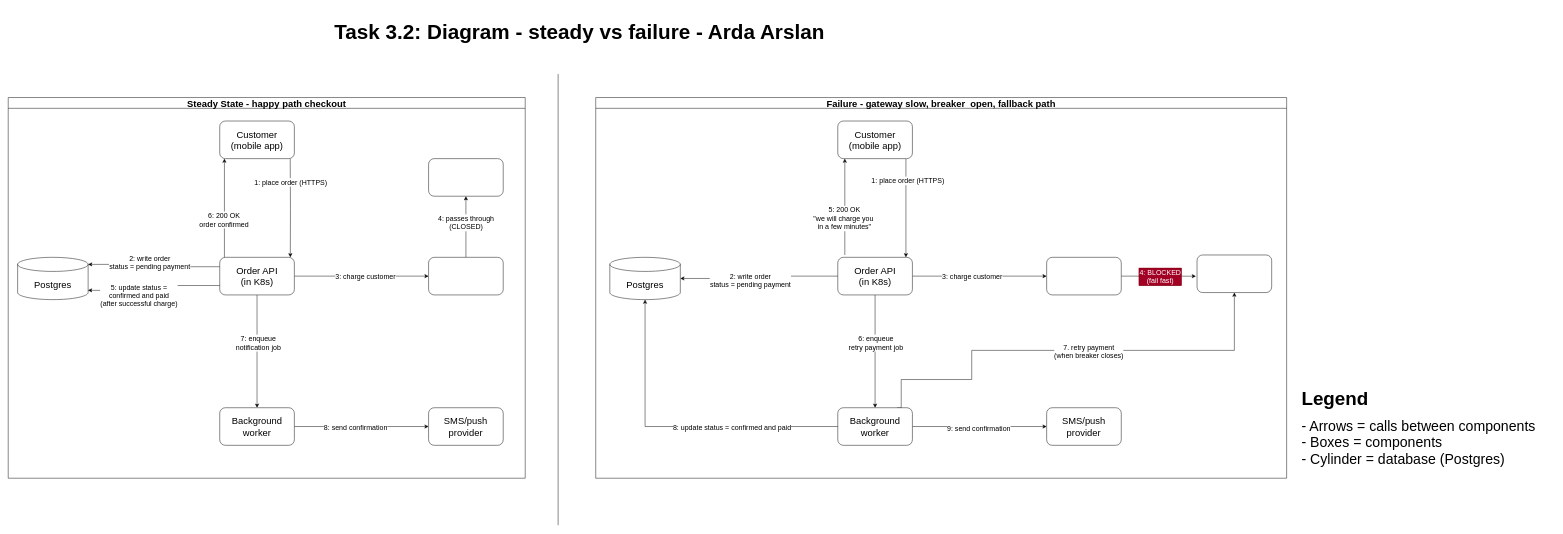
Some shapes in this 1563 by 534 pixel diagram are drawn without their labels. The shapes that lost their labels are listed below. From the top down, each one's centre as x and y in pixels, then its label:
(x=465, y=177): Payment gateway (external)
(x=465, y=276): Circuit Breaker CLOSED
(x=1083, y=276): Circuit Breaker OPEN
(x=1234, y=274): Payment gateway DOWN/SLOW
